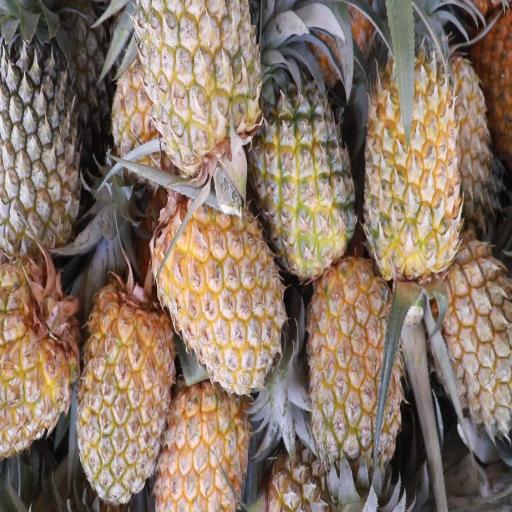------------------------------: (248, 37, 362, 283), (131, 0, 269, 184)
Pineapple - v8 v1: (361, 6, 468, 299), (151, 196, 291, 416), (304, 255, 406, 512), (72, 272, 175, 512), (0, 246, 87, 465), (435, 220, 512, 453), (155, 374, 254, 512)
